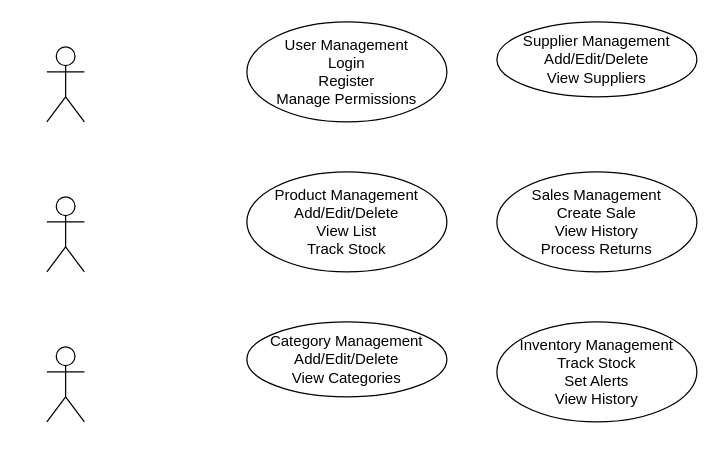
Some shapes in this 719 by 470 pixel diagram are drawn without their labels. Here are the shapes that lost their labels. From the top down, the box of each, then its label:
(46, 46, 84, 122): Admin User
(46, 196, 84, 272): Regular User
(46, 346, 84, 422): System
